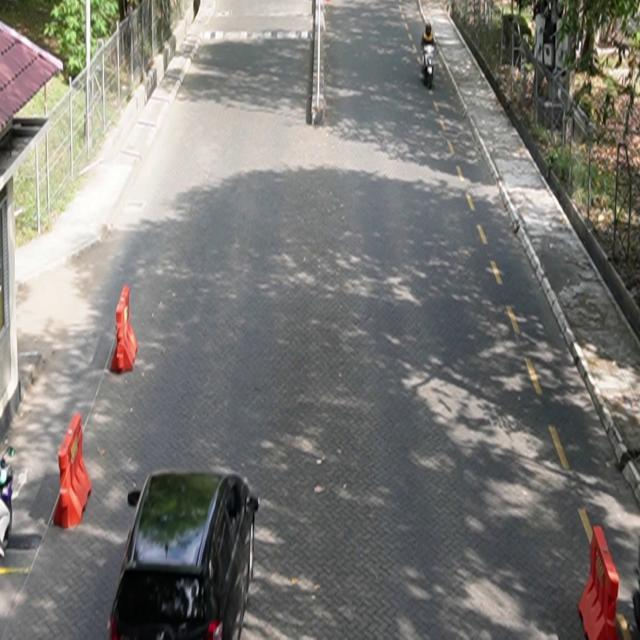car: (108, 469, 260, 640)
